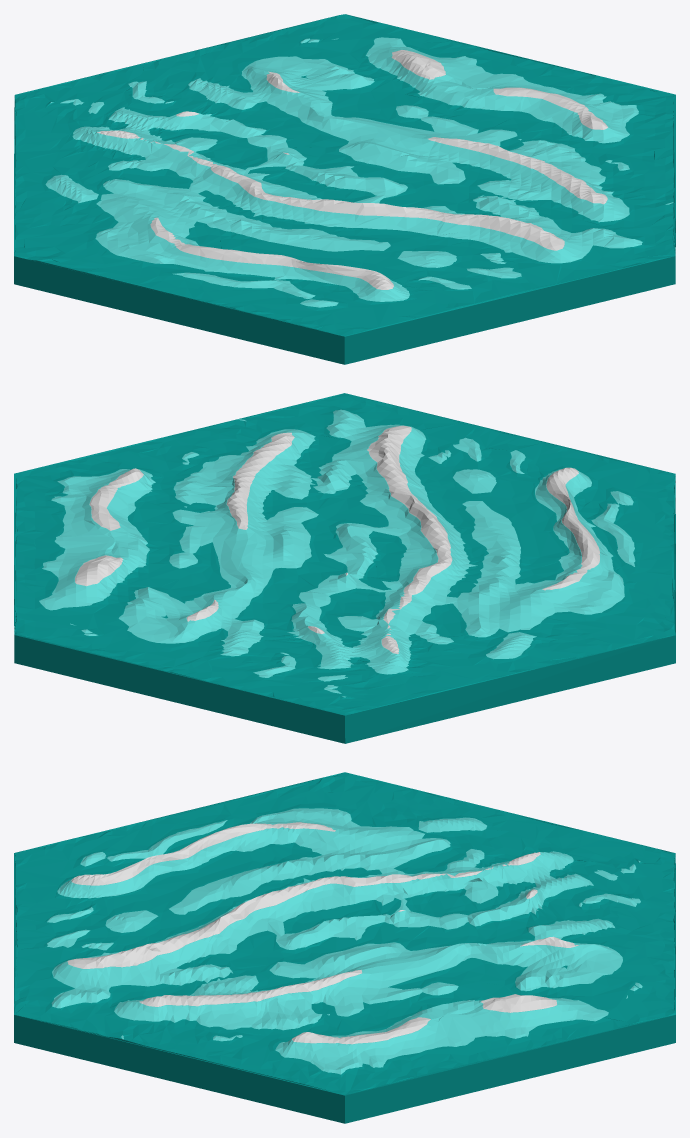
The model's file is water.glb.
3 renders of one model, top to bottom at view 1: azimuth 30°, elevation 25°; view 2: azimuth 150°, elevation 25°; view 3: azimuth 270°, elevation 25°, orthographic.
Visible parts, largest first — view 1: water; view 2: water; view 3: water.
Part boxes in pixels (x1,y1,x2,y2): water: [14, 14, 675, 364]; water: [14, 393, 675, 743]; water: [14, 772, 675, 1123].
Size of the model in its own units: 74 by 4.8 by 64.
